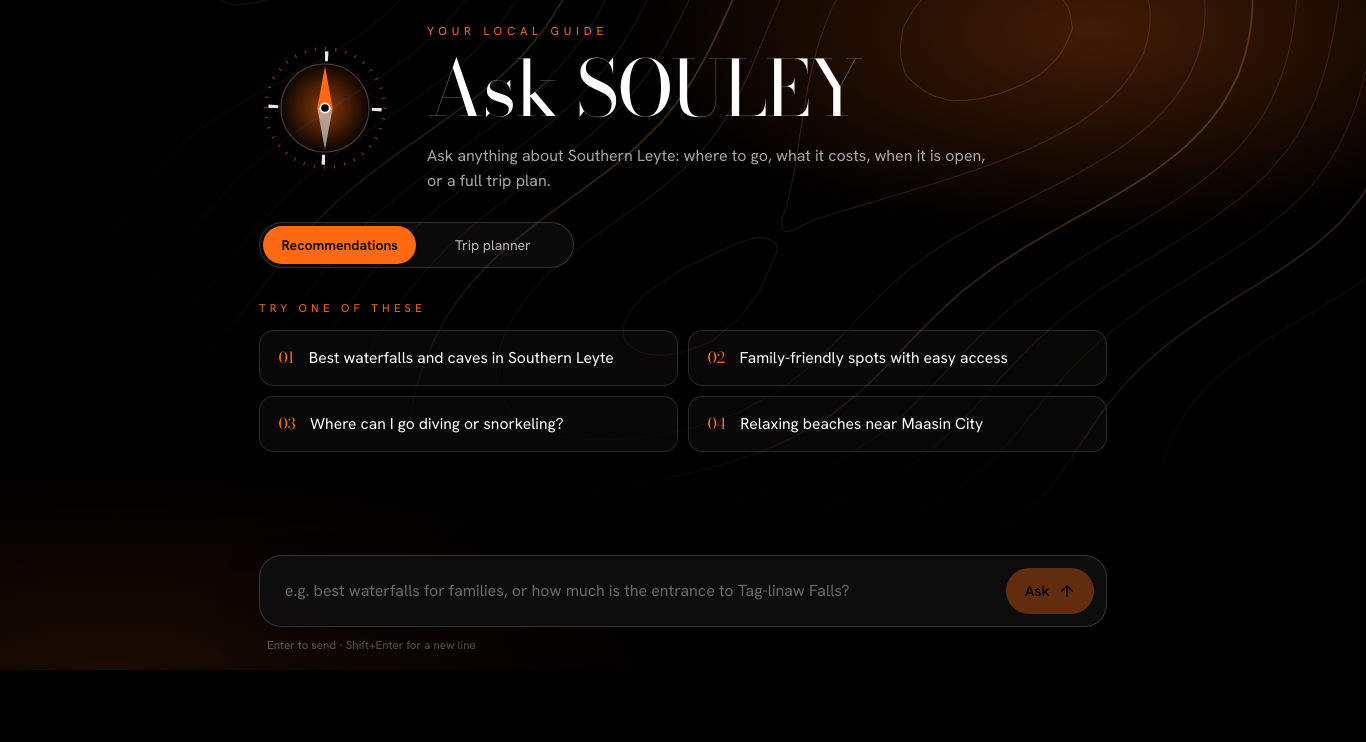
it: Ask page › copies the answer
This screenshot has width=1366, height=742.
Type "waterfalls" into the text box named "your question". click: (633, 591)
box: top-left (272, 569), bottom-right (994, 614)
Then press Enter
(page scrolled)
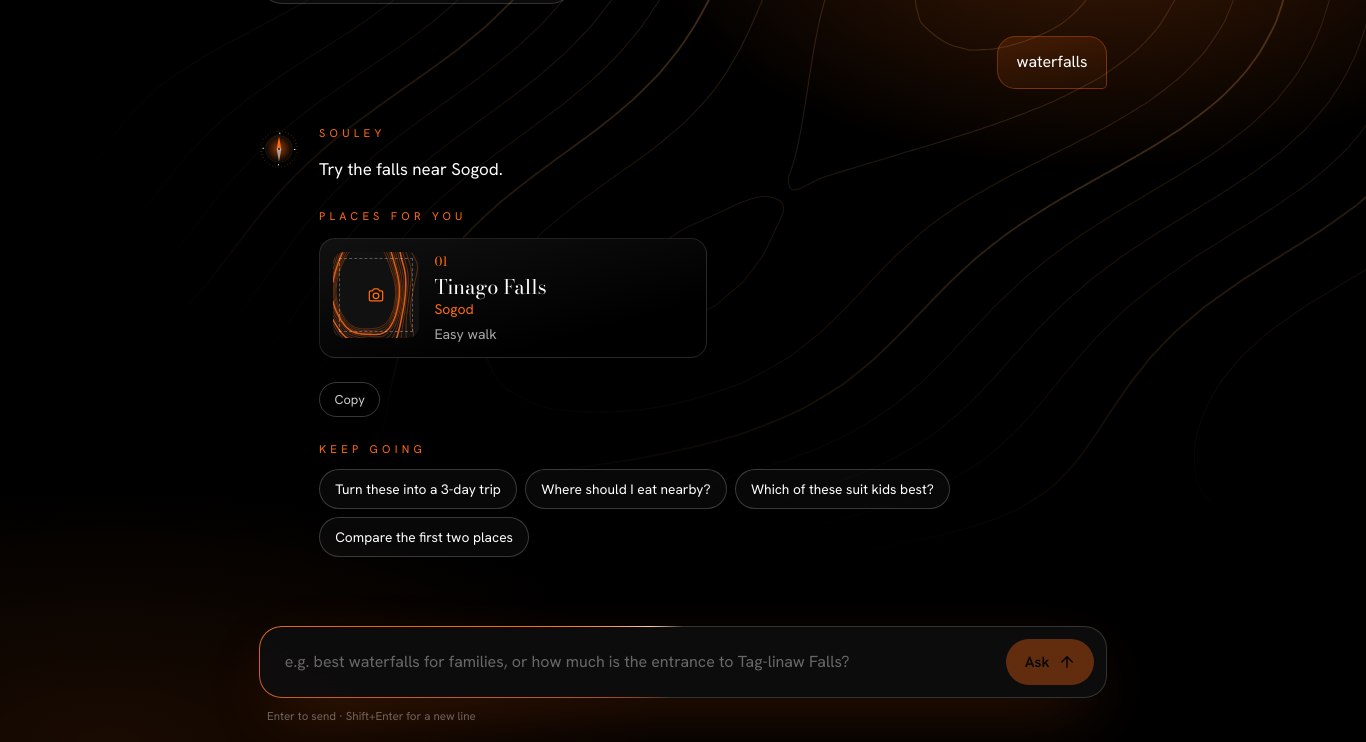
Expected: the text "Try the falls near Sogod." is shown, top-left (319, 158), bottom-right (503, 180)
Click the button "Copy". click: (350, 400)
box: top-left (319, 382), bottom-right (380, 418)
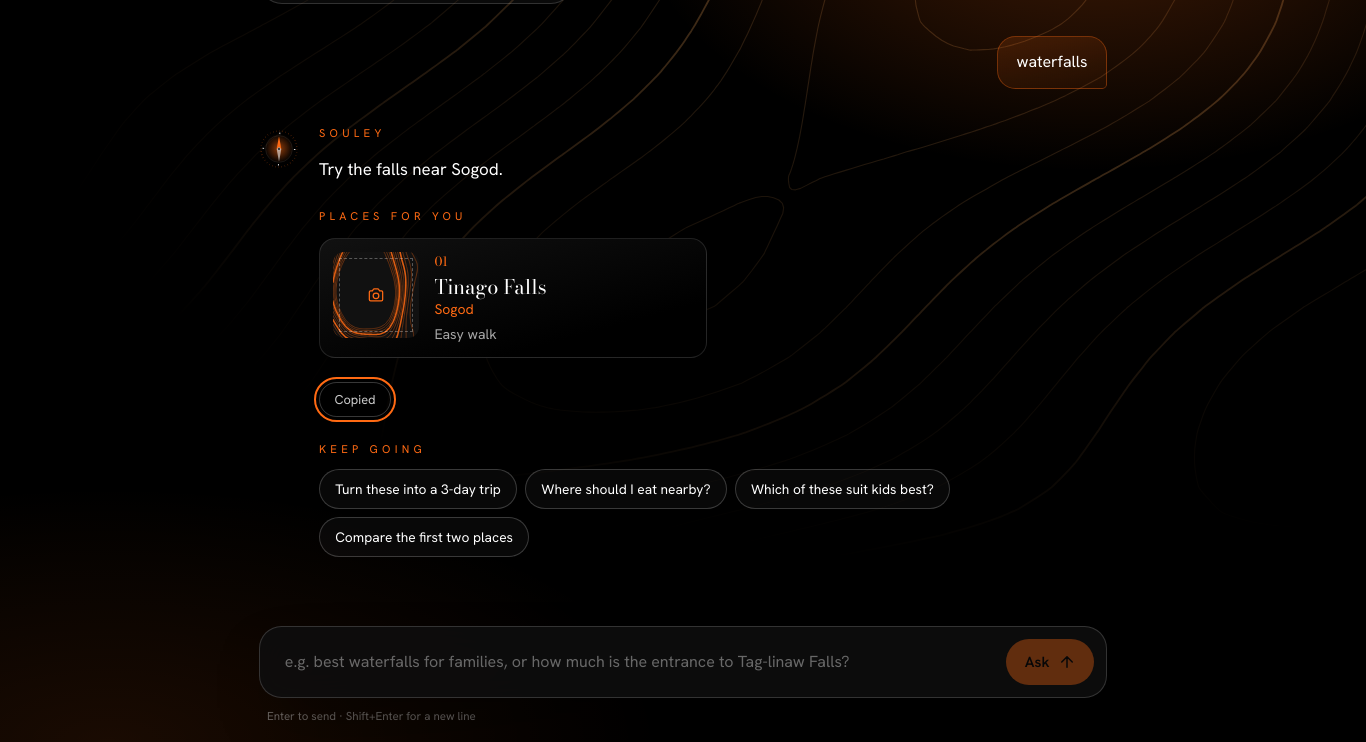
Expected: the button "Copied" is shown, top-left (319, 382), bottom-right (391, 418)
